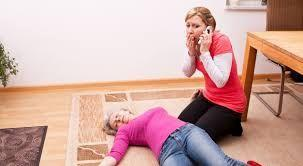bending: (169, 2, 248, 142)
down: (88, 99, 263, 166)
